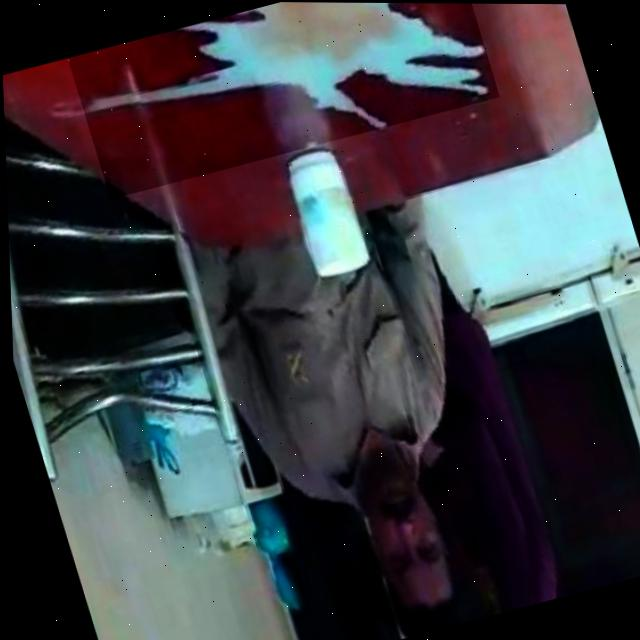spillage: (82, 2, 488, 127)
